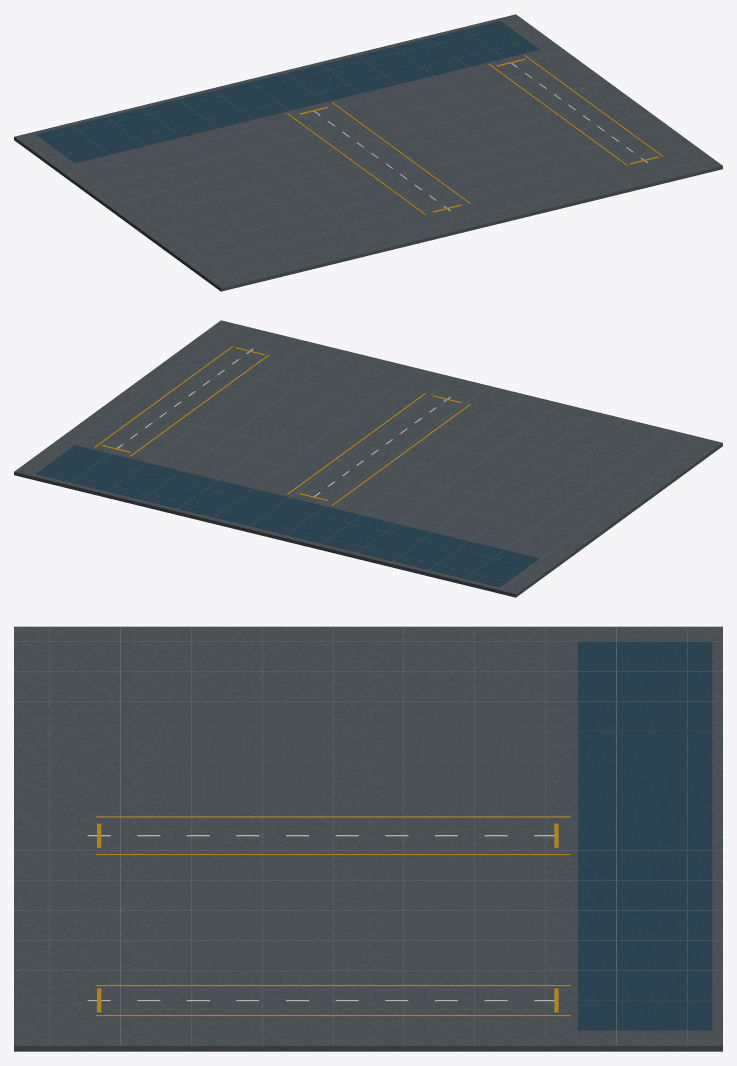
File: floor.8f3e24897c58.glb
3 renders of one model, top to bottom at view 1: azimuth 30°, elevation 25°; view 2: azimuth 150°, elevation 25°; view 3: azimuth 270°, elevation 25°, orthographic. The views are drawn at different scales.
Visible parts, largest first — view 1: slab_0001, storage_zone_0006, production_zone_0005, production_zone_0003, production_zone_0002, production_zone_0004; view 2: slab_0001, storage_zone_0006, production_zone_0002, production_zone_0003, production_zone_0004, production_zone_0005; view 3: slab_0001, storage_zone_0006, production_zone_0002, production_zone_0003, production_zone_0004, production_zone_0005, slab_joint_0038, lane_edge_0007, lane_edge_0008, lane_edge_0009, lane_edge_0010, slab_joint_0031 (+8 smaller).
Part boxes in pixels (<box>): slab_0001: <box>14,14,722,291</box>; storage_zone_0006: <box>35,21,539,163</box>; production_zone_0005: <box>411,121,586,186</box>; production_zone_0003: <box>221,167,396,232</box>; production_zone_0002: <box>157,120,331,185</box>; production_zone_0004: <box>347,74,521,139</box>; slab_0001: <box>14,320,722,597</box>; storage_zone_0006: <box>35,445,539,587</box>; production_zone_0002: <box>347,468,521,534</box>; production_zone_0003: <box>411,422,585,487</box>; production_zone_0004: <box>157,422,331,487</box>; production_zone_0005: <box>221,375,395,440</box>; slab_0001: <box>14,626,722,1051</box>; storage_zone_0006: <box>577,641,712,1030</box>; production_zone_0002: <box>388,702,547,810</box>; production_zone_0003: <box>168,702,327,810</box>; production_zone_0004: <box>388,861,547,969</box>; production_zone_0005: <box>168,861,327,969</box>; slab_joint_0038: <box>14,850,722,851</box>; lane_edge_0007: <box>95,816,570,817</box>; lane_edge_0008: <box>95,854,570,855</box>; lane_edge_0009: <box>95,985,570,986</box>; lane_edge_0010: <box>95,1015,570,1016</box>; slab_joint_0031: <box>14,641,722,641</box>.
Bounding box in the file's own units: 28 × 0.2025 × 20.
5 materials, 4 textured.
